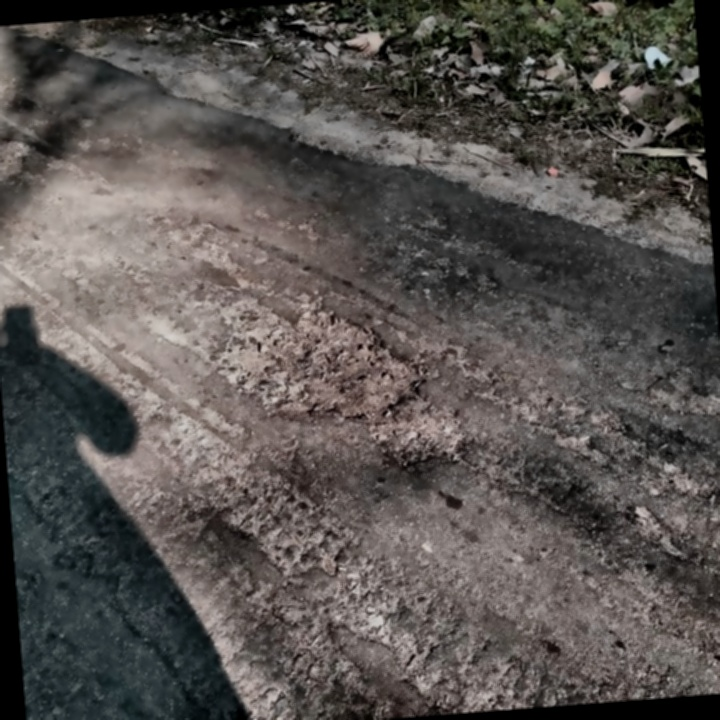pothole: (218, 291, 436, 432), (365, 411, 468, 477)
